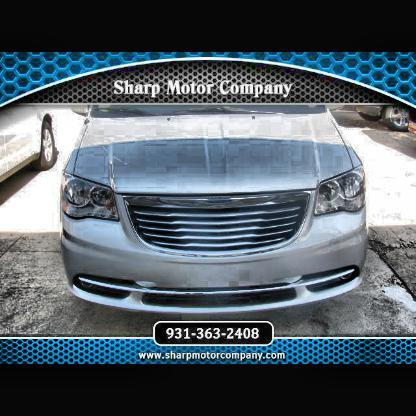Chrysler Town and Country Minivan 2012: (61, 107, 367, 313)
